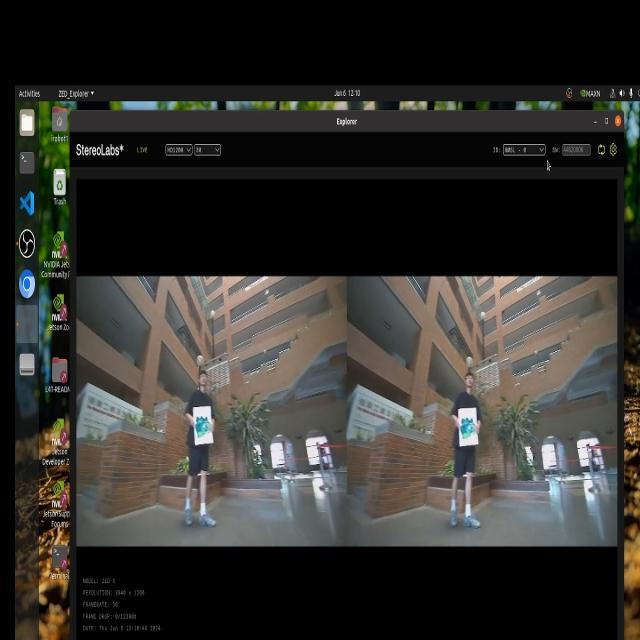green: (460, 410, 477, 441), (194, 409, 212, 438)
